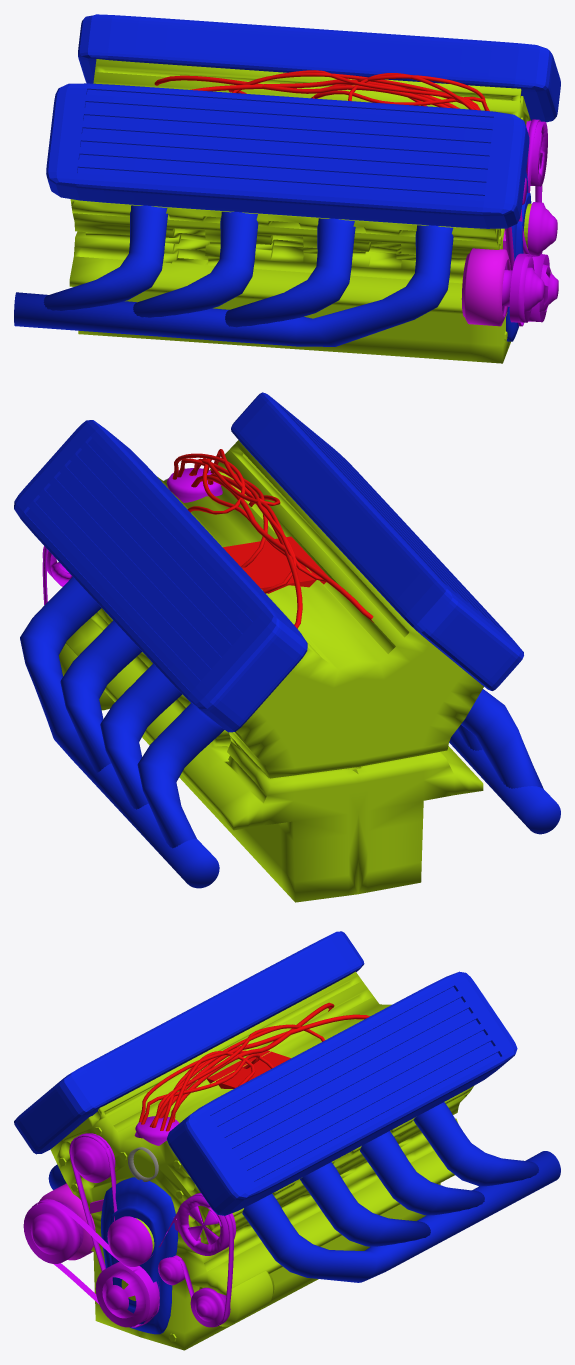
The picture shows the model from 3 angles, top to bottom: view 1: azimuth 30°, elevation 25°; view 2: azimuth 150°, elevation 25°; view 3: azimuth 270°, elevation 25°; orthographic projection. The views are drawn at different scales.
Parts seen in each view (by area): view 1: Cube003_Cube007, Cylinder009_Mesh004, Cylinder037_Cylinder036, Cube002_Cube006, Cylinder016_Cylinder021, Cylinder001, Cylinder012_Cylinder025, Cylinder003, Cylinder002, Curve001_Mesh, Cylinder, Cube_Cube005 (+1 smaller); view 2: Cylinder009_Mesh004, Cube002_Cube006, Cylinder008_Cylinder011, Cube003_Cube007, Cylinder037_Cylinder036, Cylinder016_Cylinder021, Cube, Cylinder010_Cylinder015; view 3: Cube002_Cube006, Cylinder009_Mesh004, Cylinder008_Cylinder011, Cube003_Cube007, Cube_Cube005, Cylinder016_Cylinder021, Cylinder012_Cylinder025, Cylinder002, Curve001_Mesh, Cylinder, Cylinder003, Cylinder013_Cylinder027 (+7 smaller).
Part boxes in pixels (x1,y1,x2,y2): Cube003_Cube007: (46,83,529,228); Cylinder009_Mesh004: (69,59,530,363); Cylinder037_Cylinder036: (14,205,453,346); Cube002_Cube006: (78,14,560,122); Cylinder016_Cylinder021: (154,70,489,111); Cylinder001: (461,248,510,326); Cylinder012_Cylinder025: (502,256,544,322); Cylinder003: (527,202,557,255); Cylinder002: (528,254,558,322); Curve001_Mesh: (505,119,542,326); Cylinder: (526,120,547,186); Cube_Cube005: (506,171,531,341); Cylinder009_Mesh004: (66,440,483,902); Cube002_Cube006: (14,420,307,732); Cylinder008_Cylinder011: (20,577,224,888); Cube003_Cube007: (231,392,523,690); Cylinder037_Cylinder036: (449,689,560,834); Cylinder016_Cylinder021: (172,449,373,628); Cube: (223,536,328,593); Cylinder010_Cylinder015: (166,468,222,502); Cube002_Cube006: (166,971,517,1215); Cylinder009_Mesh004: (50,971,473,1350); Cylinder008_Cylinder011: (242,1102,560,1282); Cube003_Cube007: (14,931,364,1154); Cube_Cube005: (101,1177,178,1334); Cylinder016_Cylinder021: (139,1002,369,1131); Cylinder012_Cylinder025: (23,1201,83,1263); Cylinder002: (95,1262,159,1327); Curve001_Mesh: (69,1133,233,1327); Cylinder: (177,1195,236,1255); Cylinder003: (107,1216,152,1266); Cylinder013_Cylinder027: (199,1271,274,1326).
Size of the model in its own units: 6.35 by 3.11 by 6.15.
